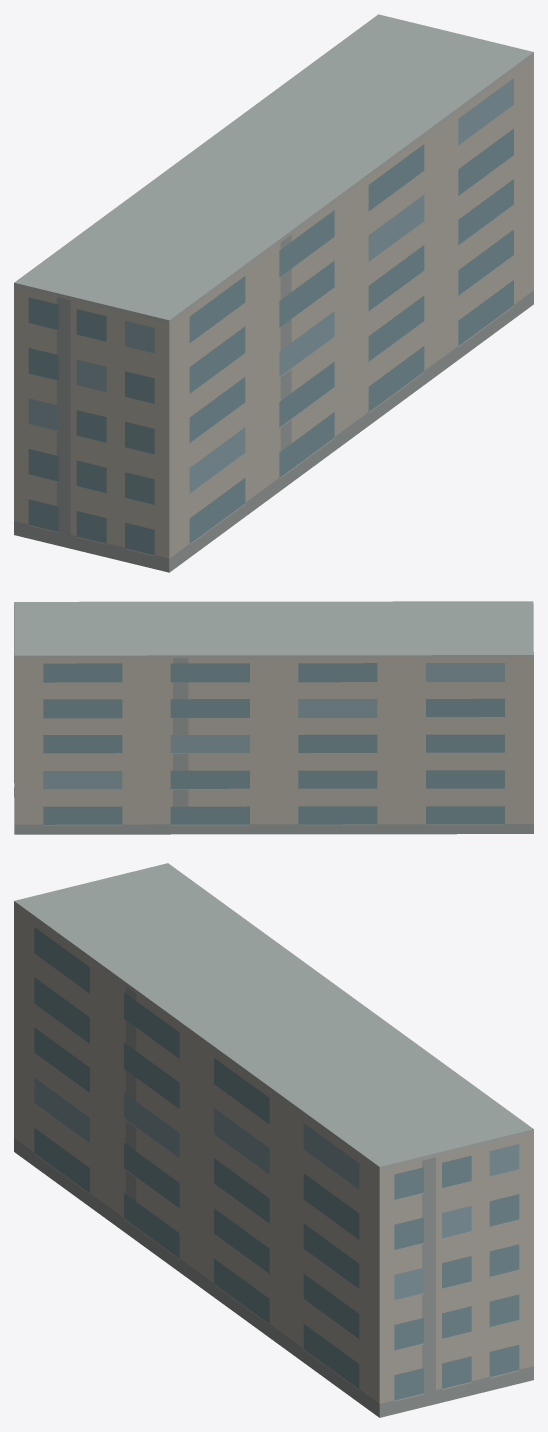
The model's file is residential-0234b090-40f8-4e59-a88d-eeb3bc8b51a2.glb.
3 renders of one model, top to bottom at view 1: azimuth 30°, elevation 25°; view 2: azimuth 150°, elevation 25°; view 3: azimuth 270°, elevation 25°, orthographic. The views are drawn at different scales.
Visible parts, largest first — view 1: residential-0234b090-40f8-4e59-a88d-eeb3bc8b51a2.tmp; view 2: residential-0234b090-40f8-4e59-a88d-eeb3bc8b51a2.tmp; view 3: residential-0234b090-40f8-4e59-a88d-eeb3bc8b51a2.tmp.
Boxes of the visible parts, <box> form: residential-0234b090-40f8-4e59-a88d-eeb3bc8b51a2.tmp: <box>14,14,533,572</box>; residential-0234b090-40f8-4e59-a88d-eeb3bc8b51a2.tmp: <box>14,601,533,834</box>; residential-0234b090-40f8-4e59-a88d-eeb3bc8b51a2.tmp: <box>14,863,533,1417</box>.
Size of the model in its own units: 39.62 by 15.25 by 28.64.
